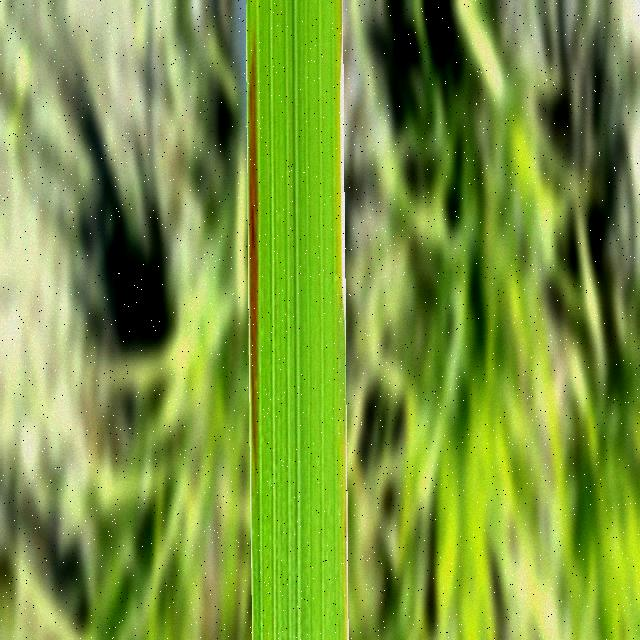NBS: (249, 38, 258, 470)
